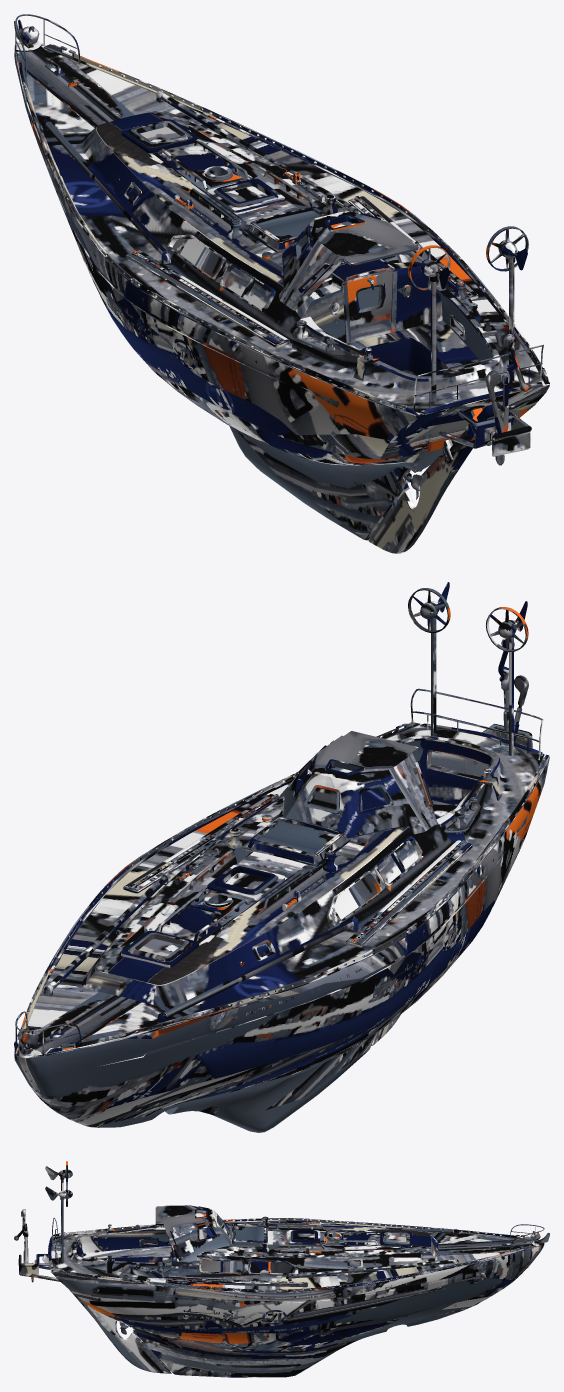
Rendered from rapid.gltf.
The picture shows the model from 3 angles, top to bottom: view 1: azimuth 30°, elevation 25°; view 2: azimuth 150°, elevation 25°; view 3: azimuth 270°, elevation 25°; orthographic projection. The views are drawn at different scales.
Visible parts, largest first — view 1: Body, Body.008, G42-船模.053, Body.003, Body.024, glass_01, G42-船模.017, G42-船模.070, Body.021, Body.007, G42-船模.029, G42-船模.034 (+5 smaller); view 2: Body, Body.008, Body.003, G42-船模.053, Body.024, glass_01, G42-船模.017, G42-船模.070, G42-船模.028, G42-船模.034, G42-船模.029, G42-船模.037 (+4 smaller); view 3: Body, G42-船模.053, Body.008, Body.003, Body.024, glass_01, G42-船模.070, G42-船模.017, Body.021, Body.007, G42-船模.028, G42-船模.037 (+4 smaller).
Part boxes in pixels (box(x1,y1,x2,y2)): Body: box(14, 52, 549, 553); Body.008: box(96, 111, 351, 286); G42-船模.053: box(15, 43, 549, 416); Body.003: box(279, 210, 427, 310); Body.024: box(14, 44, 298, 224); glass_01: box(129, 127, 463, 333); G42-船模.017: box(126, 196, 478, 347); G42-船模.070: box(42, 90, 358, 264); Body.021: box(347, 320, 481, 370); Body.007: box(299, 285, 500, 381); G42-船模.029: box(207, 178, 285, 212); G42-船模.034: box(121, 119, 198, 153); Body: box(14, 582, 549, 1132); Body.008: box(96, 796, 408, 985); Body.003: box(279, 731, 437, 838); G42-船模.053: box(17, 722, 549, 1055); Body.024: box(14, 852, 305, 1057); glass_01: box(139, 766, 418, 956); G42-船模.017: box(123, 794, 472, 947); G42-船模.070: box(43, 872, 358, 1022); G42-船模.028: box(243, 817, 350, 867); G42-船模.034: box(121, 930, 199, 967); G42-船模.029: box(207, 864, 284, 900); G42-船模.037: box(14, 1011, 81, 1092); Body: box(14, 1161, 543, 1377); G42-船模.053: box(51, 1218, 534, 1292); Body.008: box(197, 1222, 430, 1257); Body.003: box(155, 1205, 229, 1261); Body.024: box(268, 1231, 541, 1255); glass_01: box(140, 1213, 406, 1273); G42-船模.070: box(286, 1228, 459, 1281); G42-船模.017: box(167, 1277, 308, 1287); Body.021: box(82, 1246, 170, 1262); Body.007: box(72, 1227, 171, 1265); G42-船模.028: box(231, 1224, 267, 1247); G42-船模.037: box(509, 1224, 549, 1267).
Size of the model in its own units: 1.43 by 1.85 by 4.4.
